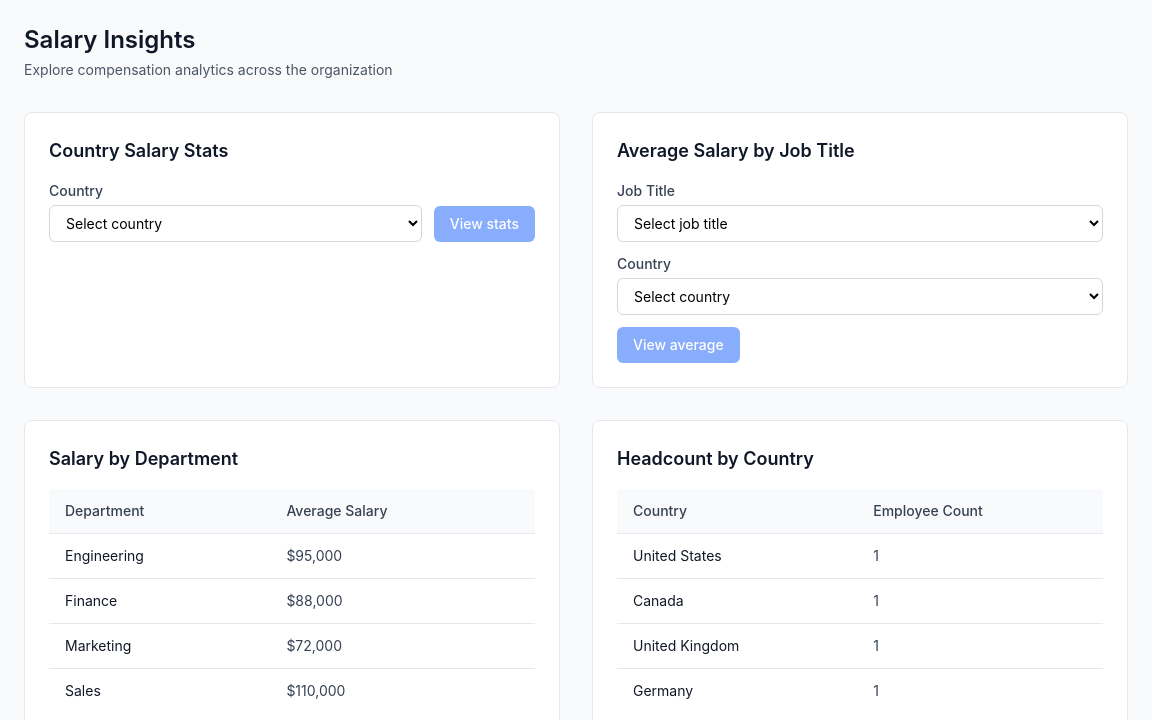
Test case: InsightsDashboard › shows country salary stats after country is submitted
Expected: the cell "Engineering" is shown, left=49, top=534, right=270, bottom=578
Select "United States" in the dropdown labelled "Country" below "Country Salary Stats" at (235, 224), box left=49, top=205, right=422, bottom=242
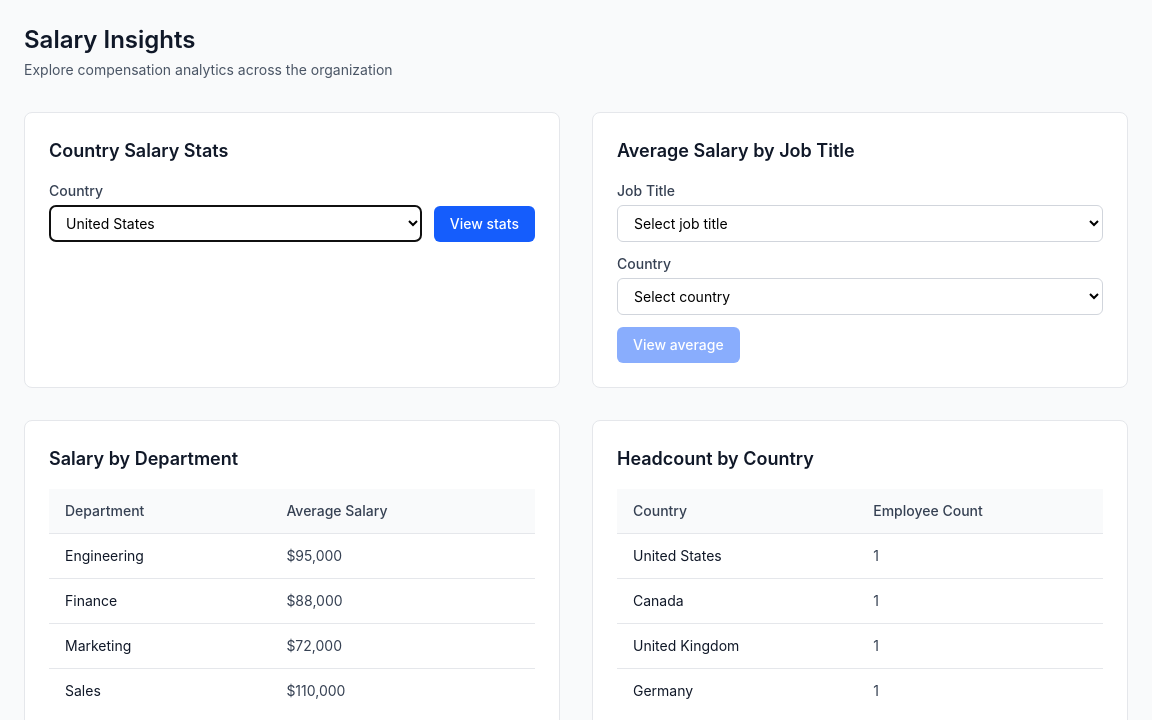
Click the button "View stats" at (484, 224), box left=434, top=206, right=535, bottom=242
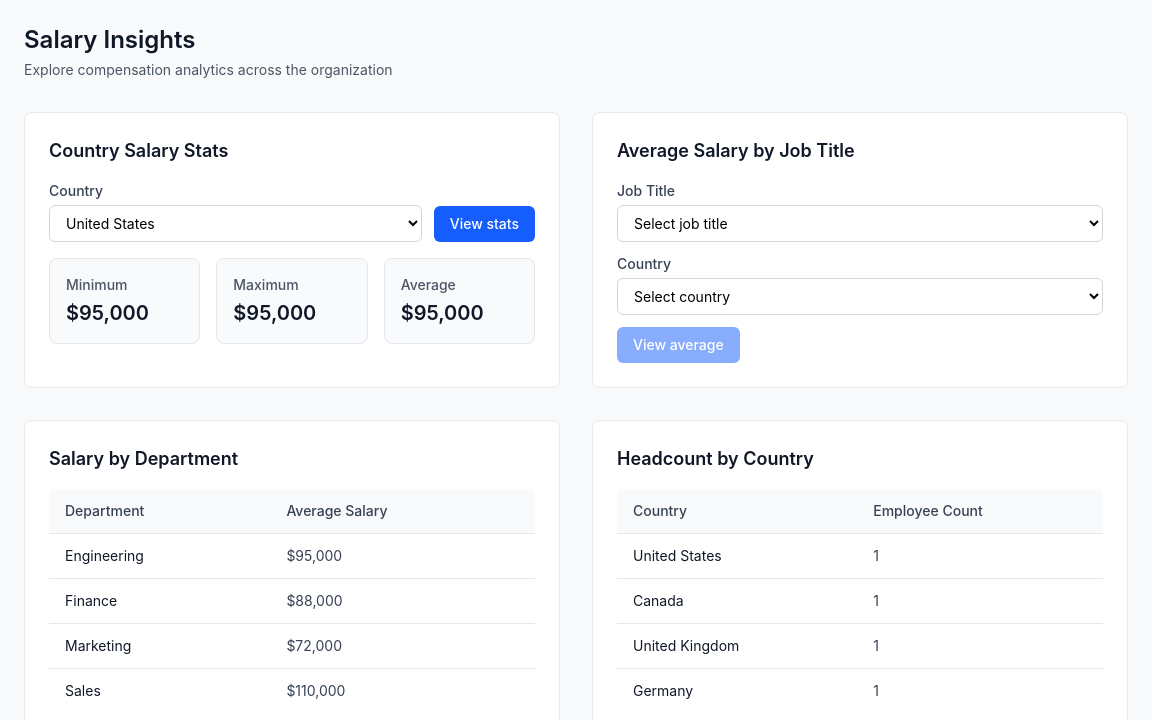
Expected: the text "Minimum" is shown, left=66, top=276, right=128, bottom=293
Expected: the text "$95,000" is shown 3 times, left=66, top=301, right=149, bottom=325; left=233, top=301, right=316, bottom=325; left=401, top=301, right=484, bottom=325
Expected: the text "Maximum" is shown, left=233, top=276, right=299, bottom=293
